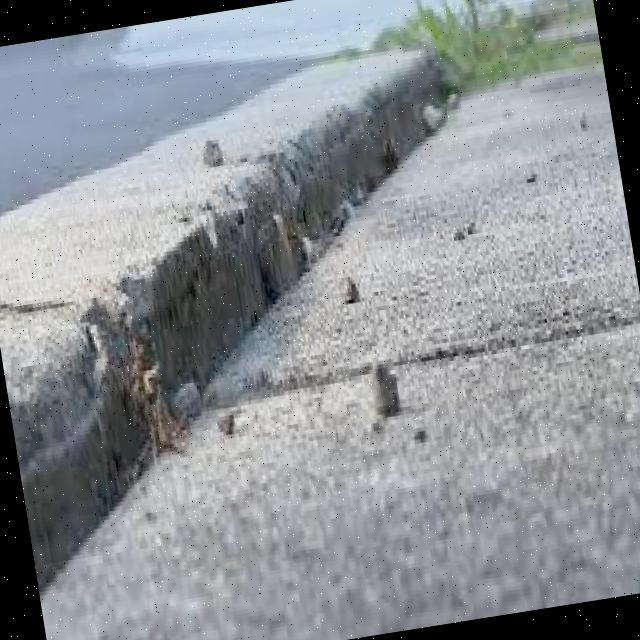curb: (1, 198, 206, 592), (115, 122, 362, 373), (291, 51, 475, 195)
